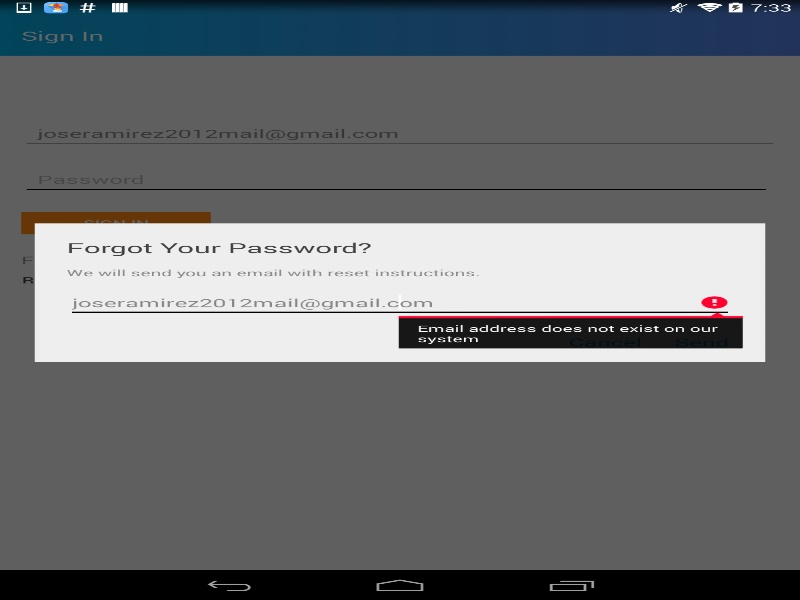Button: (562, 330, 648, 353), (658, 330, 744, 353)
Input: (66, 288, 733, 317)
